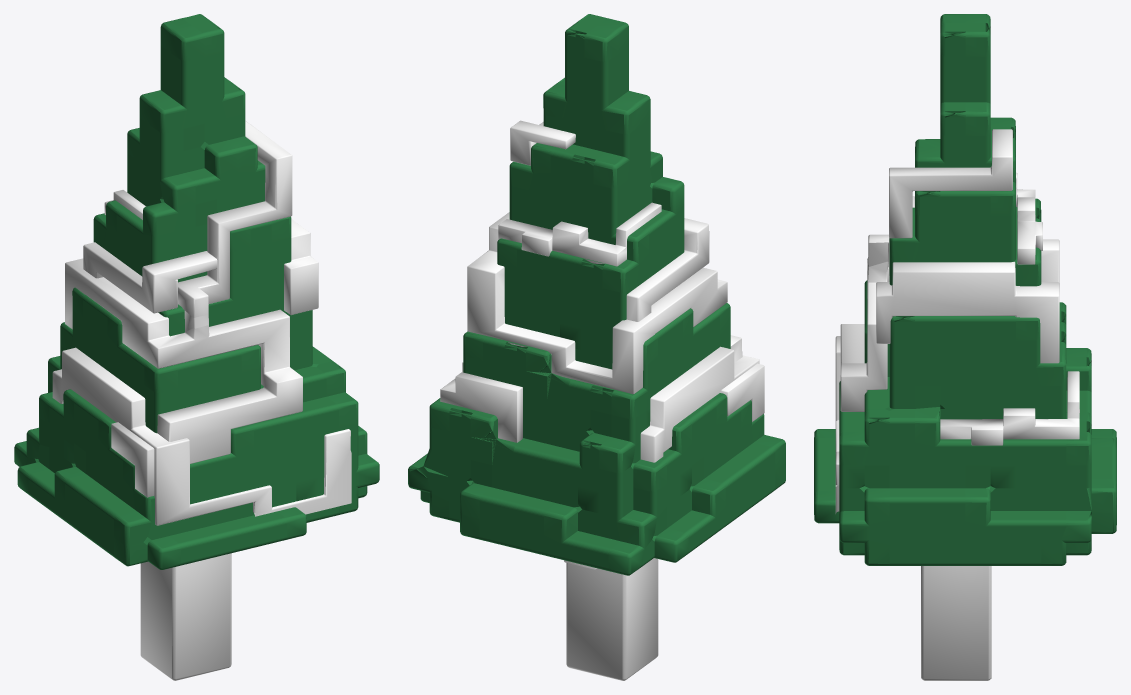
The picture shows the model from 3 angles, left to right: view 1: azimuth 30°, elevation 25°; view 2: azimuth 150°, elevation 25°; view 3: azimuth 270°, elevation 25°; orthographic projection. The views are drawn at different scales.
Parts seen in each view (by area): view 1: BipJamExport_ice_tree2; view 2: BipJamExport_ice_tree2; view 3: BipJamExport_ice_tree2.
Boxes of the visible parts, box(x1,y1,x2,y2) form: BipJamExport_ice_tree2: box(14, 14, 379, 680); BipJamExport_ice_tree2: box(408, 14, 785, 680); BipJamExport_ice_tree2: box(814, 14, 1116, 680).
Size of the model in its own units: 0.8704 by 2.06 by 0.8704.
